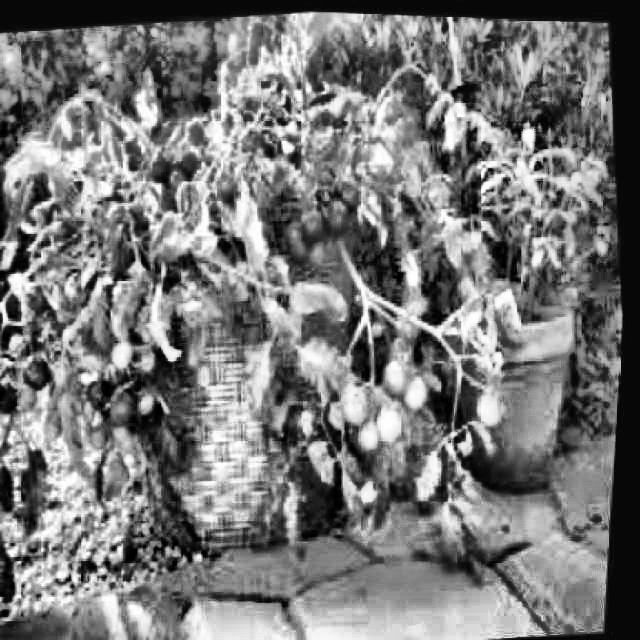plants: (0, 21, 486, 594), (394, 86, 636, 517)
